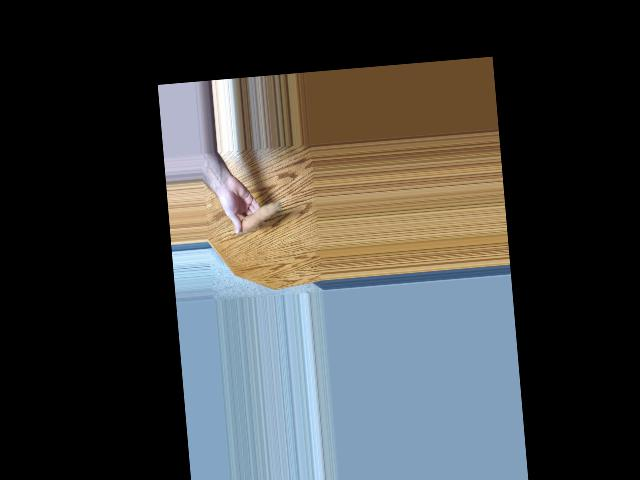sweet_potato: (230, 196, 284, 235)
